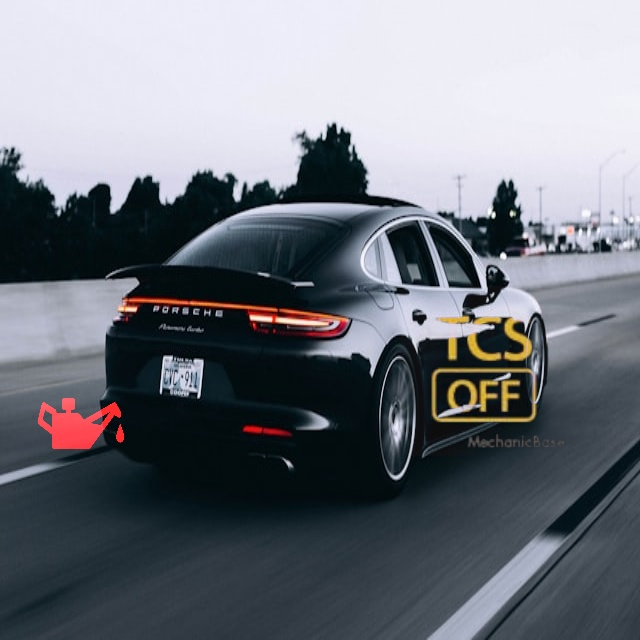symbol: (401, 286, 571, 456), (15, 352, 148, 485)
